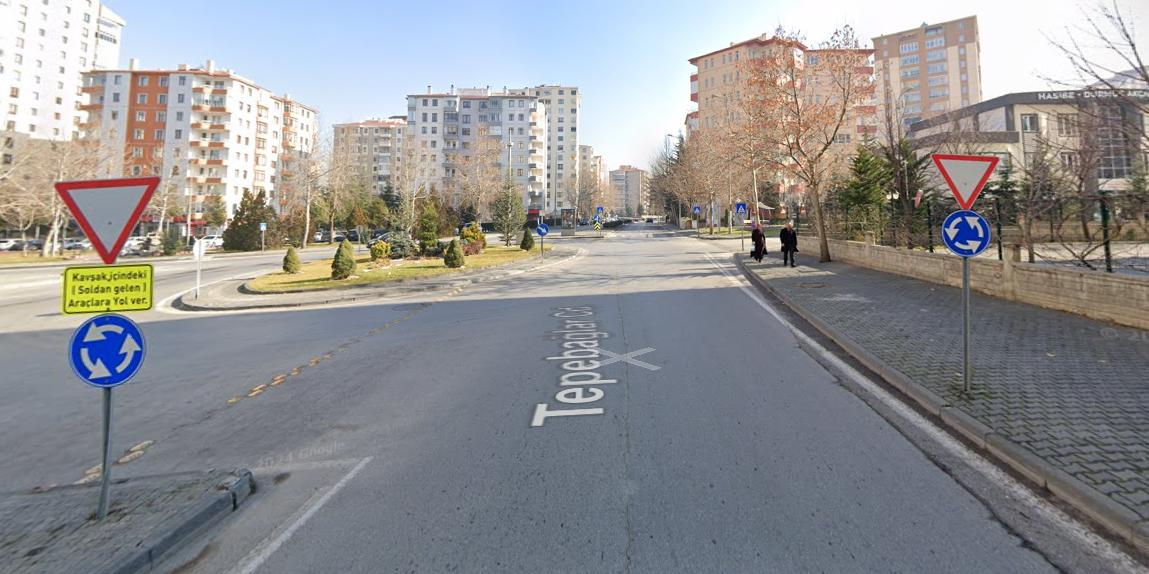crossroads: (68, 312, 149, 387), (943, 208, 996, 259)
